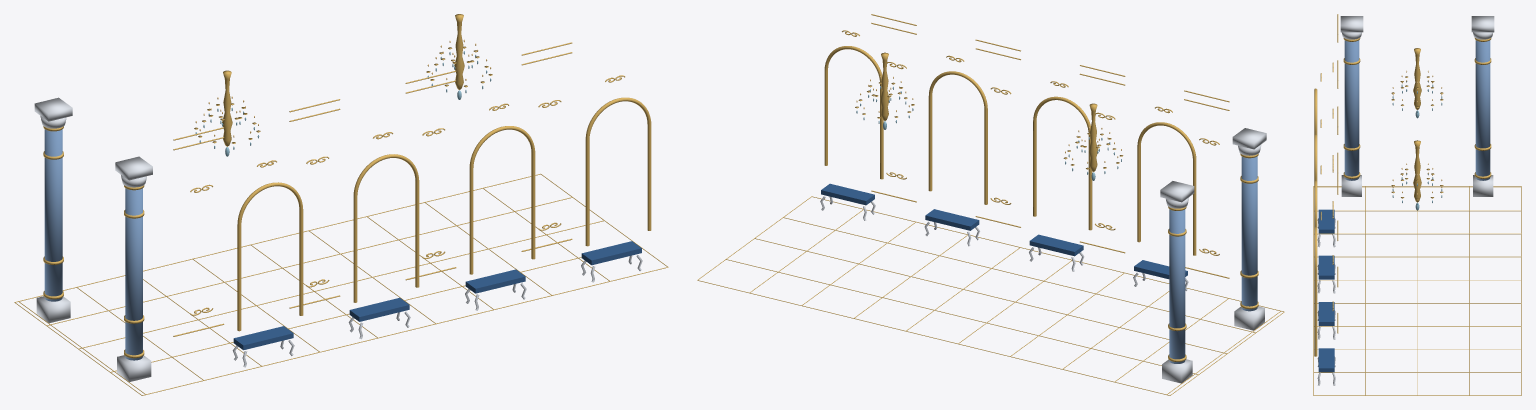
File: KRM_STATIC_015.fbx
The picture shows the model from 3 angles, left to right: view 1: azimuth 30°, elevation 25°; view 2: azimuth 150°, elevation 25°; view 3: azimuth 270°, elevation 25°; orthographic projection. The views are drawn at different scales.
Visible parts, largest first — view 1: KRM_STATIC_015; view 2: KRM_STATIC_015; view 3: KRM_STATIC_015.
Part boxes in pixels (left/top/right/bottom): KRM_STATIC_015: left=14, top=14, right=668, bottom=395; KRM_STATIC_015: left=697, top=14, right=1284, bottom=395; KRM_STATIC_015: left=1313, top=14, right=1521, bottom=395.
Size of the model in its own units: 1362 by 596 by 572.
Materials: 1 (1 with a texture image).
